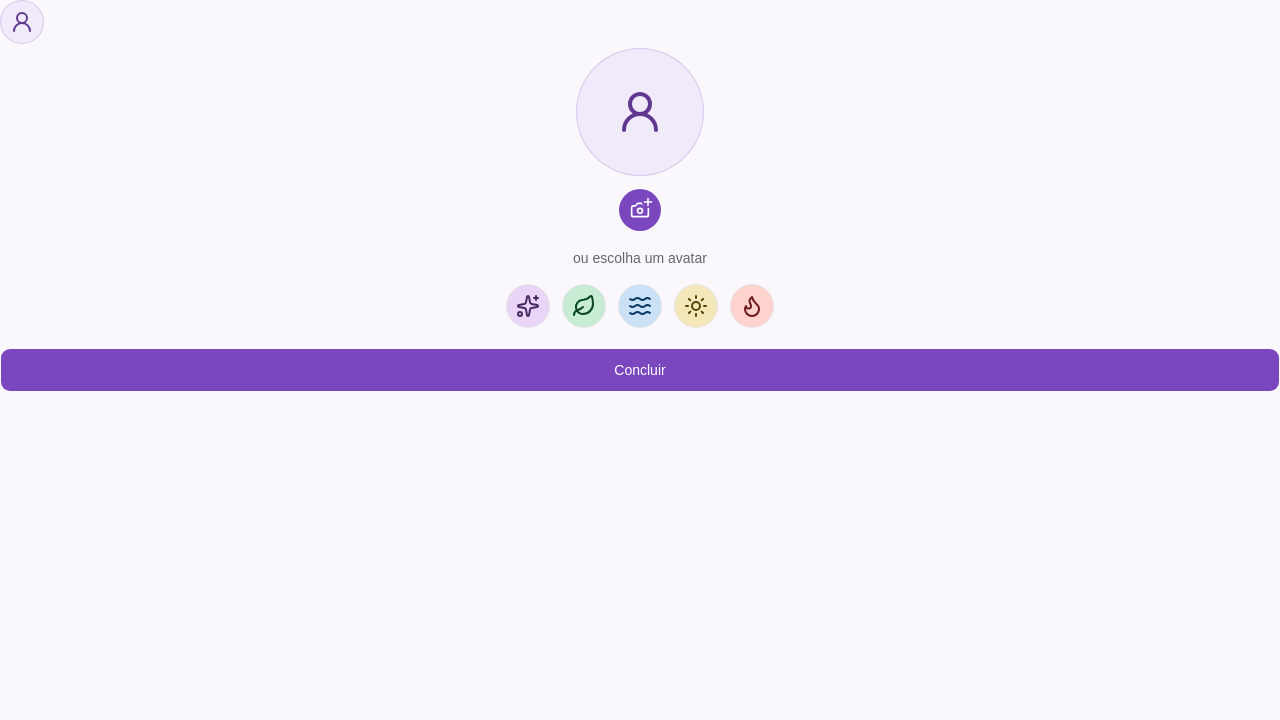
it: keeps the confirmation open and the avatar intact when removal fails
Later steps or results of the test are not shown.
Click the button named "Folha".
click(584, 306)  # box x1=562 y1=284 x2=606 y2=328
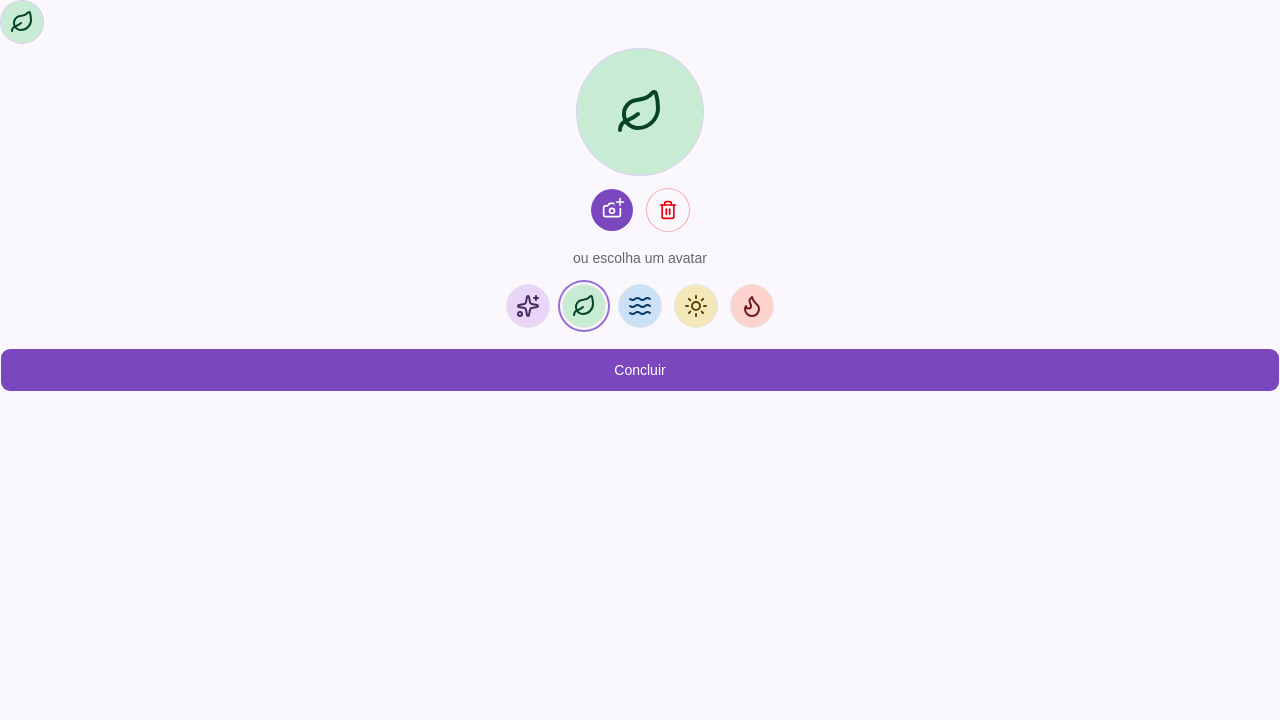
Click the button named "Excluir foto de perfil".
click(668, 210)  # box x1=646 y1=188 x2=690 y2=232
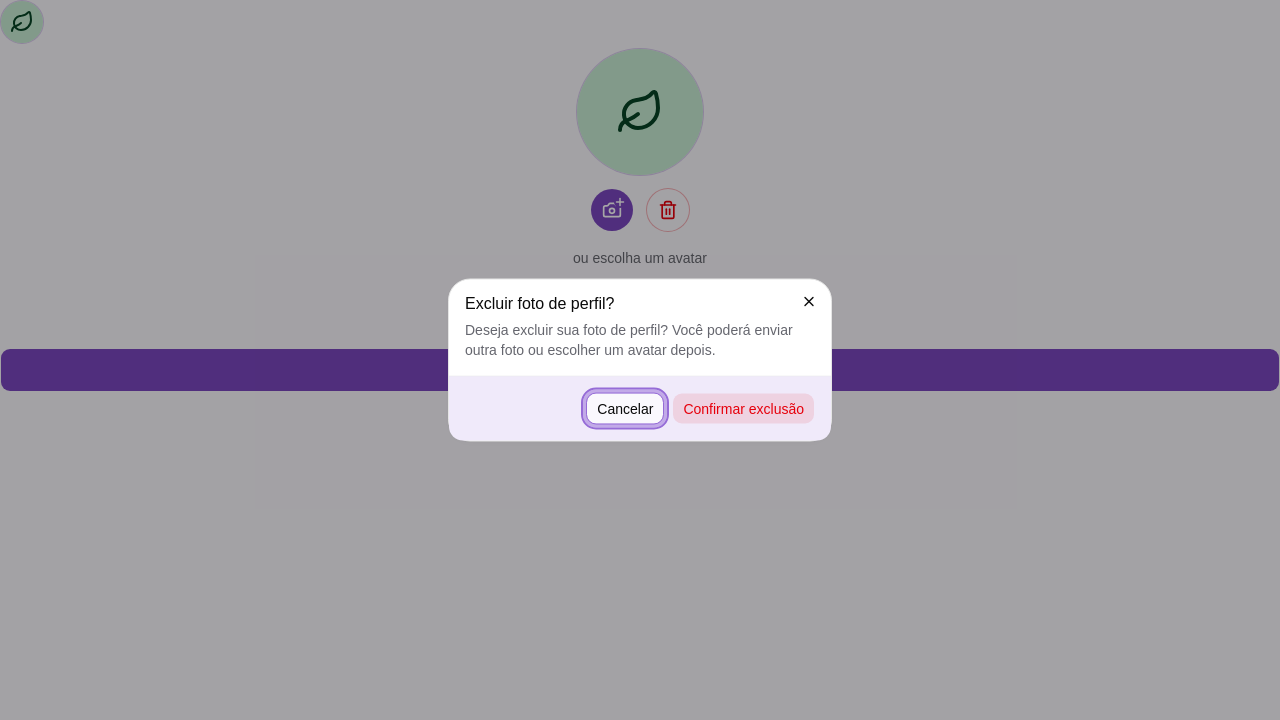
Click the button "Confirmar exclusão".
click(744, 408)  # box x1=672 y1=392 x2=815 y2=424
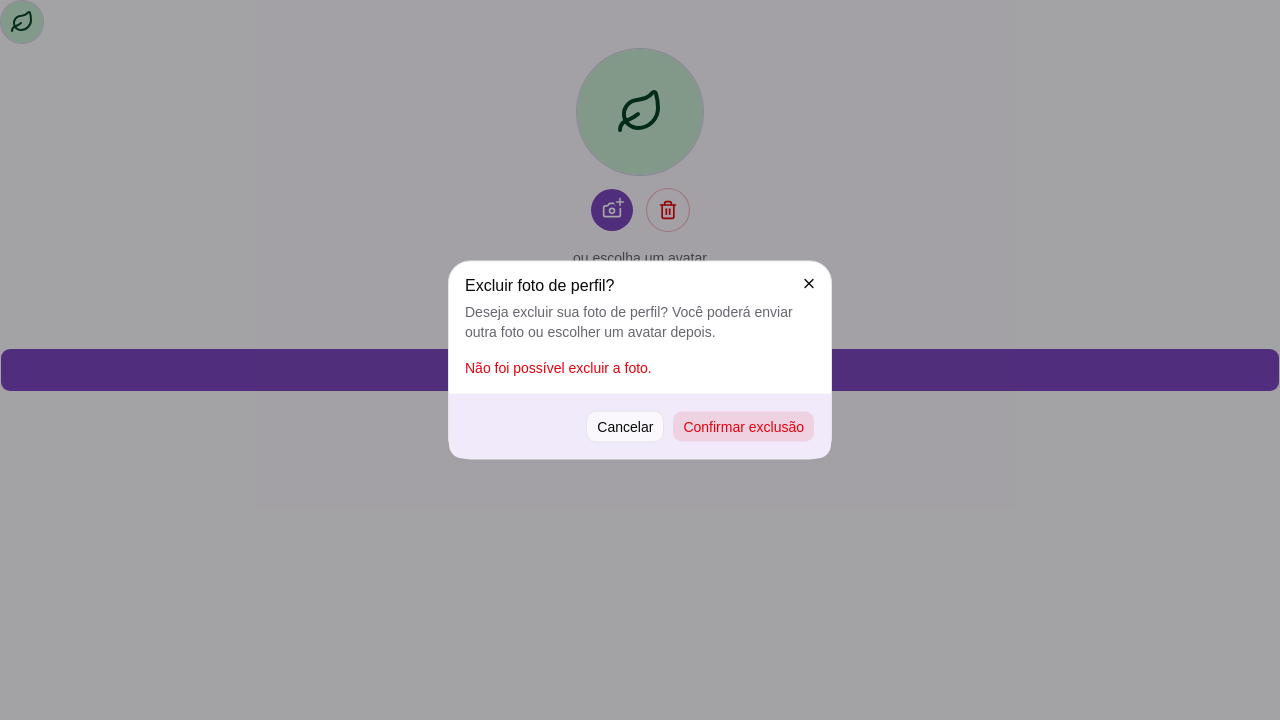
Result: the dialog "Excluir foto de perfil?" is shown at x1=448 y1=260 x2=832 y2=460
Result: the message reads "Não foi possível excluir a foto." at x1=465 y1=360 x2=652 y2=376
